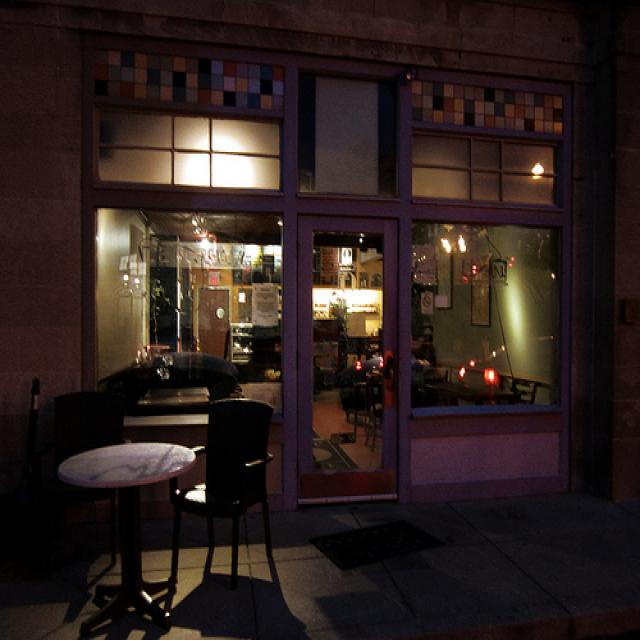Table: (52, 405, 208, 640)
chair: (190, 386, 324, 548)
